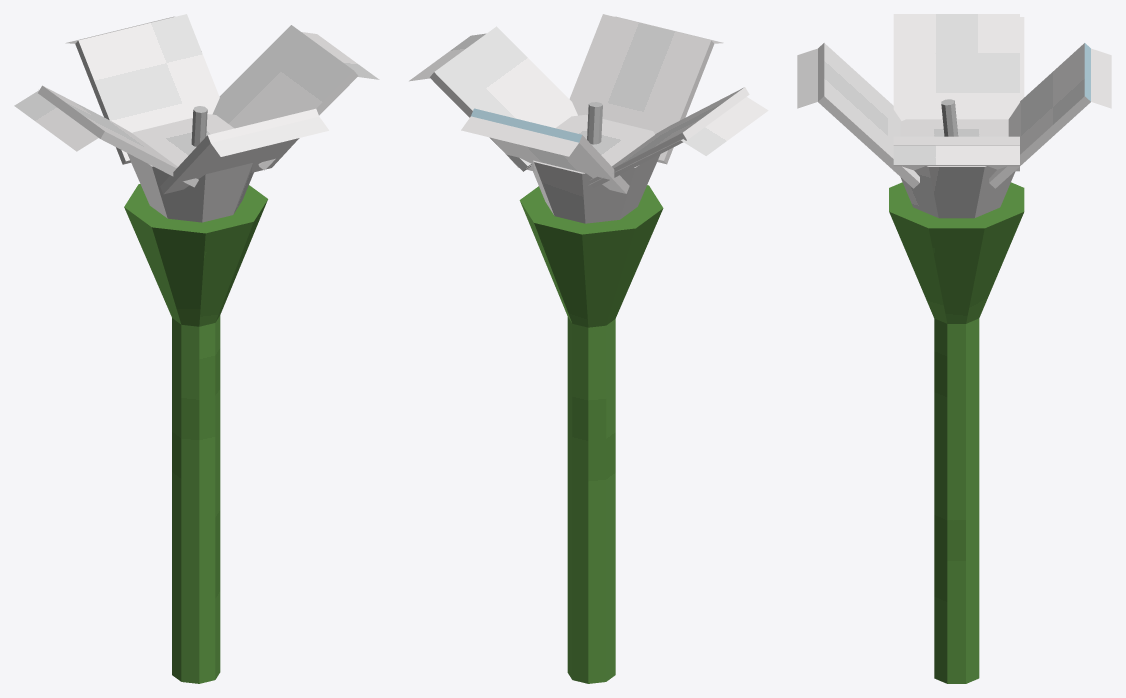
The model's file is datura_flower.obj.
The picture shows the model from 3 angles, left to right: view 1: azimuth 30°, elevation 25°; view 2: azimuth 150°, elevation 25°; view 3: azimuth 270°, elevation 25°; orthographic projection.
Parts seen in each view (by area): view 1: cone, cuboid; view 2: cone, cuboid; view 3: cone, cuboid.
Part boxes in pixels (x1,y1,x2,y2): cone: (14, 16, 379, 683); cuboid: (38, 14, 357, 194); cone: (409, 16, 768, 683); cuboid: (430, 14, 749, 193); cone: (797, 17, 1111, 683); cuboid: (818, 14, 1090, 188).
Size of the model in its own units: 0.4849 by 0.9241 by 0.4349.
Materials: 5 (4 with a texture image).
